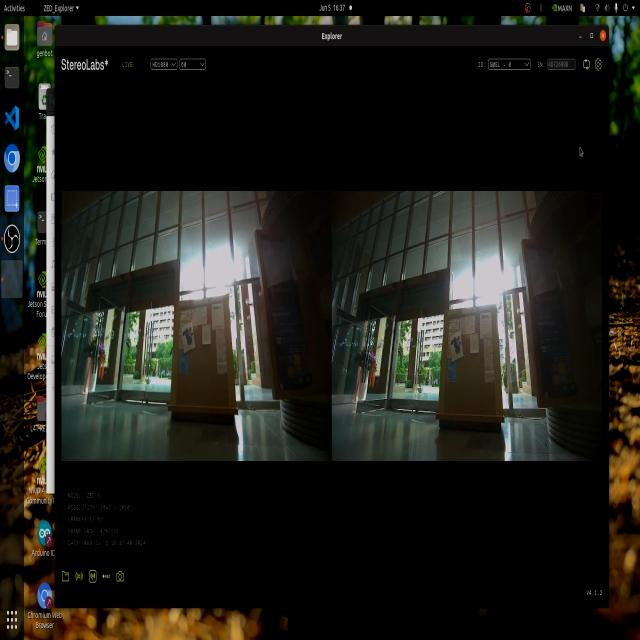blue: (446, 330, 468, 370), (179, 327, 195, 353)
